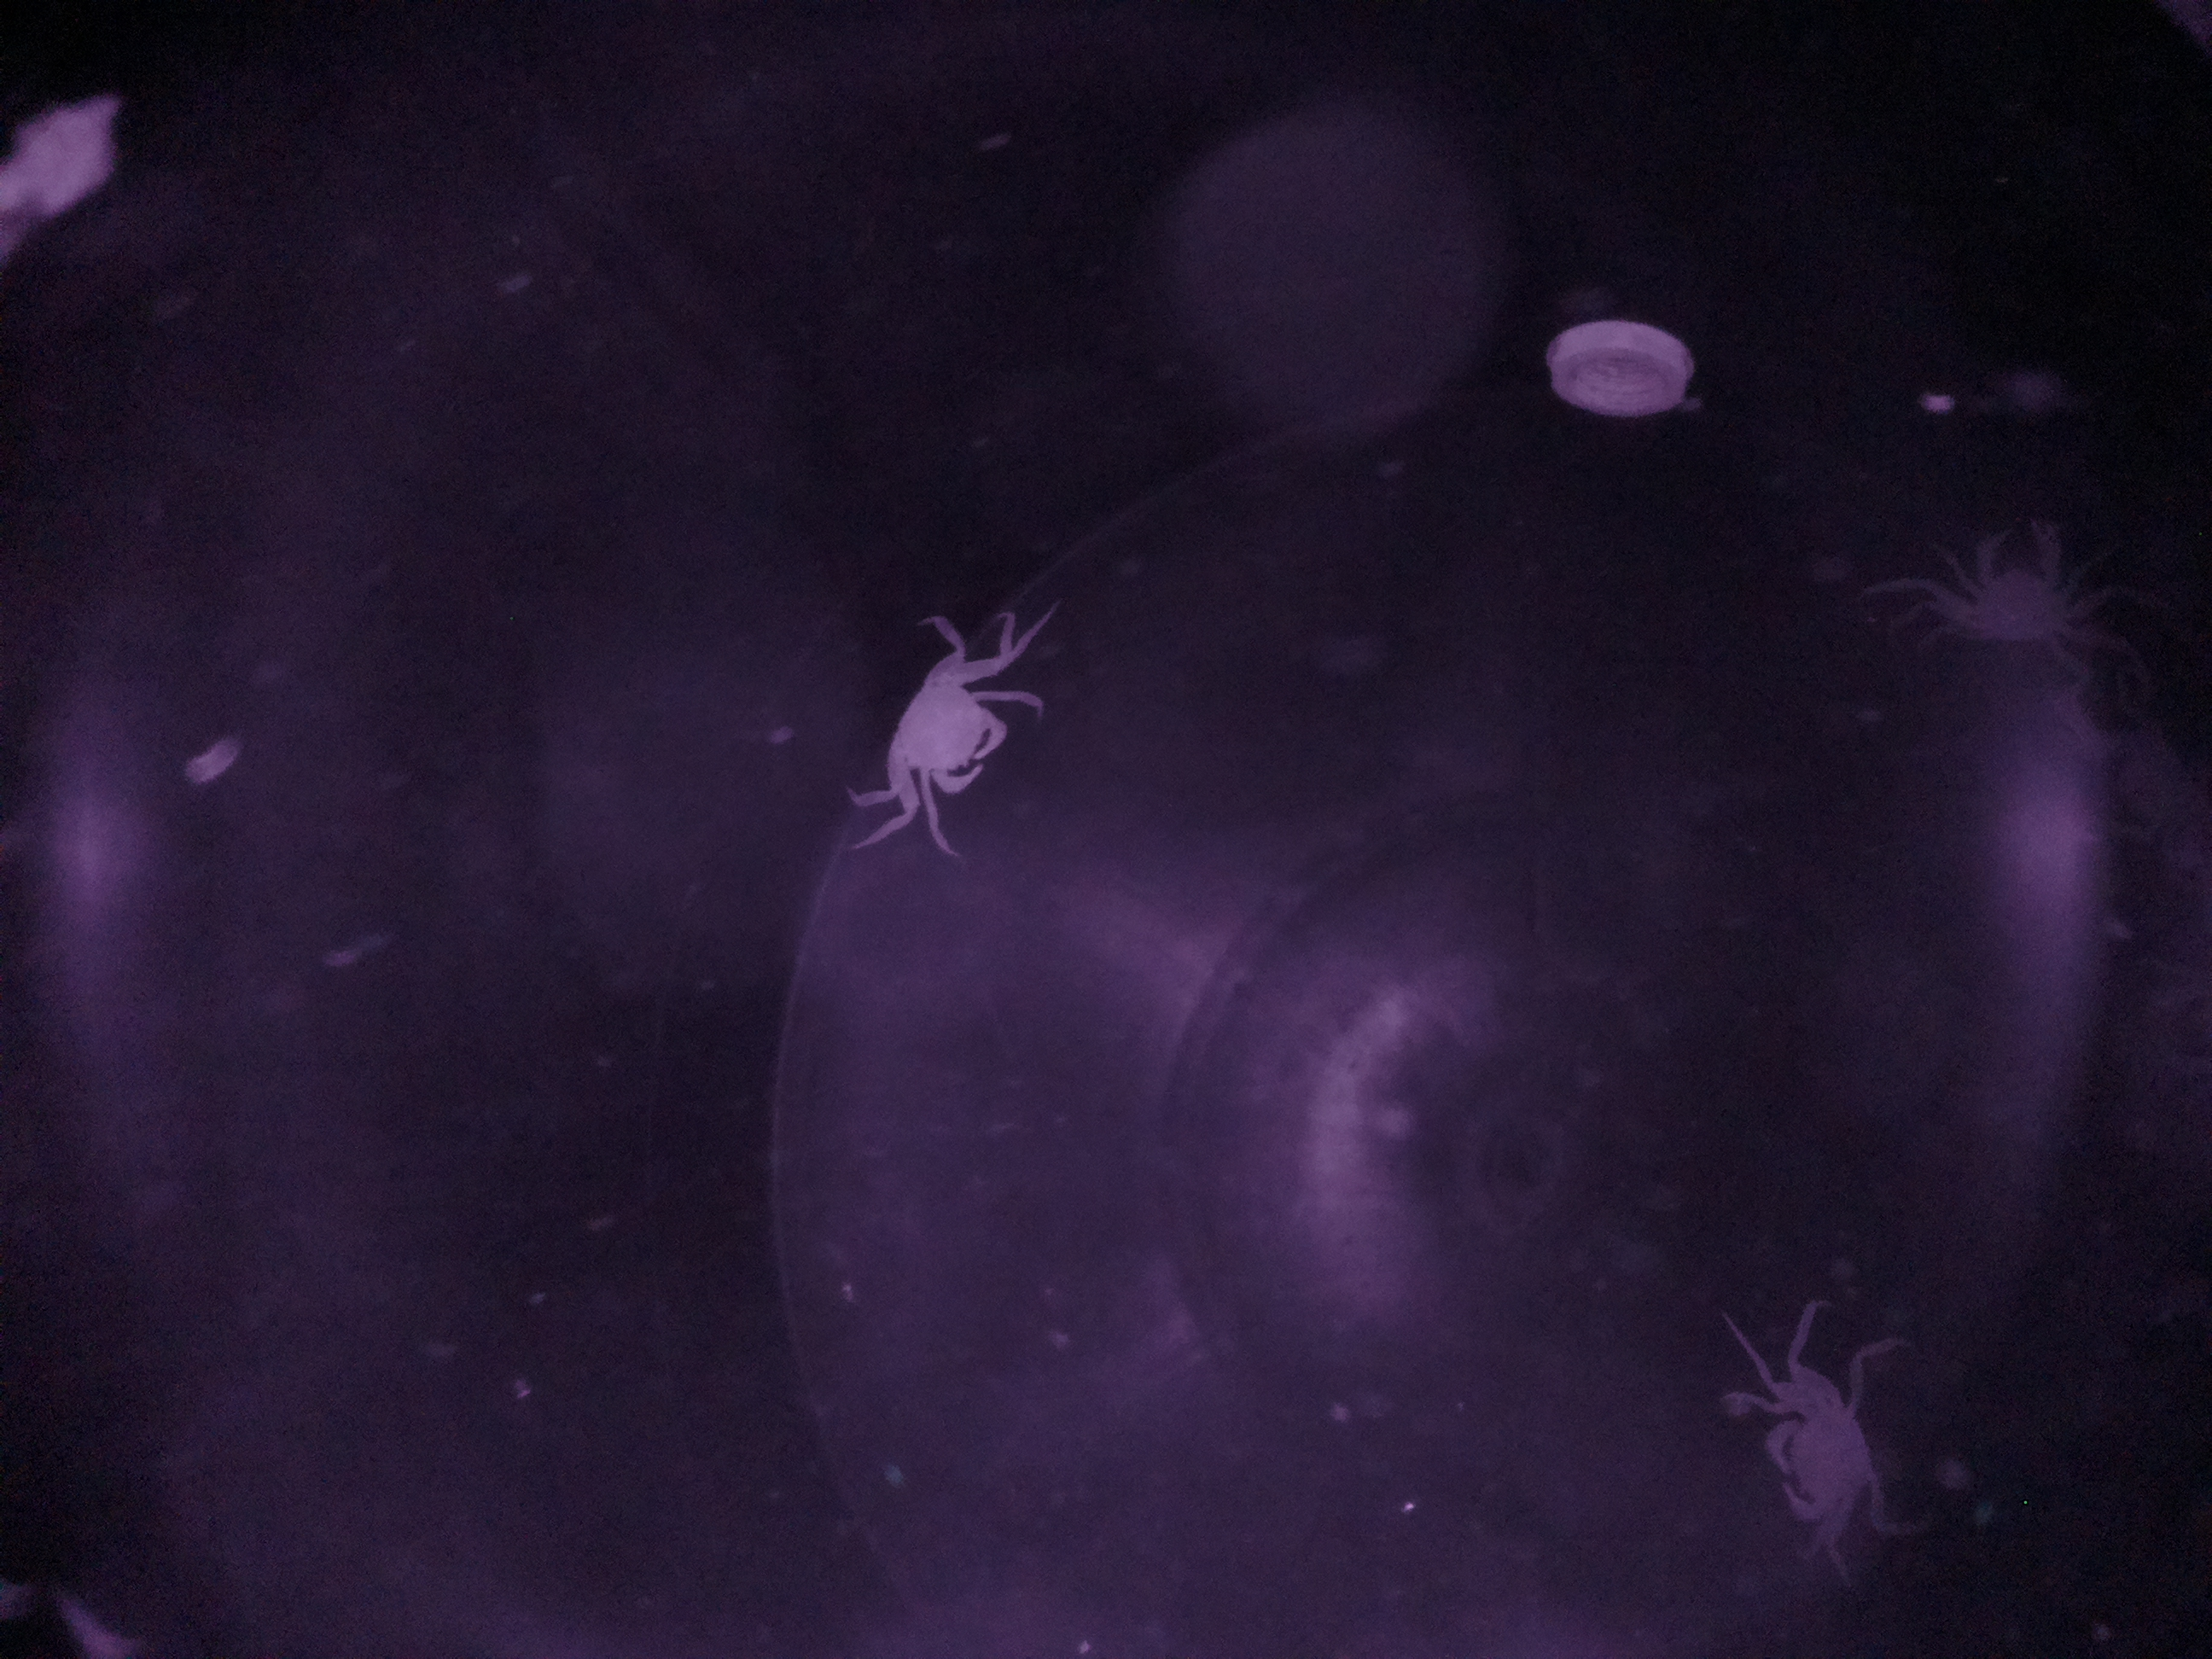Crab: (1745, 1340, 1916, 1586), (848, 643, 1028, 814)
